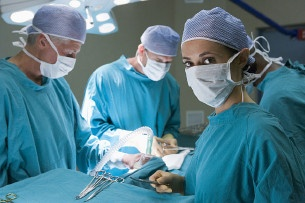Mask: (181, 50, 239, 109)
